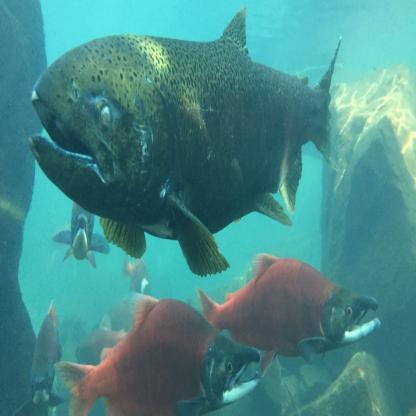fish: (26, 6, 341, 276), (53, 290, 261, 416), (199, 250, 380, 380)
